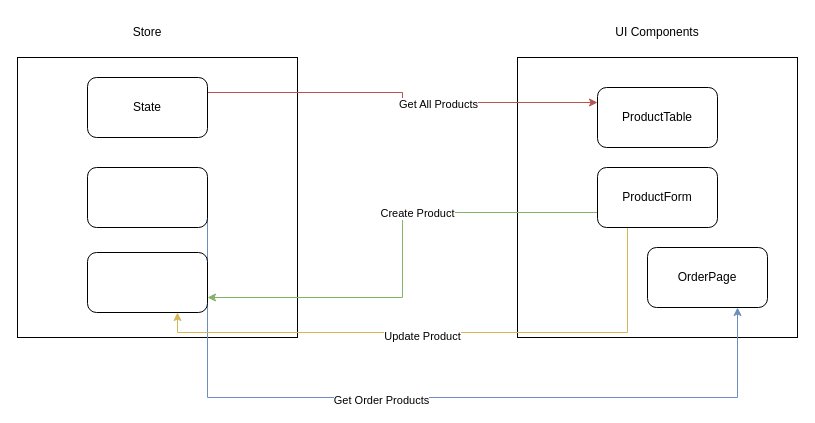
Some shapes in this 815 by 423 pixel diagram are drawn without their labels. Each missing label, with the box of its shape:
Getters: (86, 166, 208, 228)
Setters: (86, 252, 208, 312)
